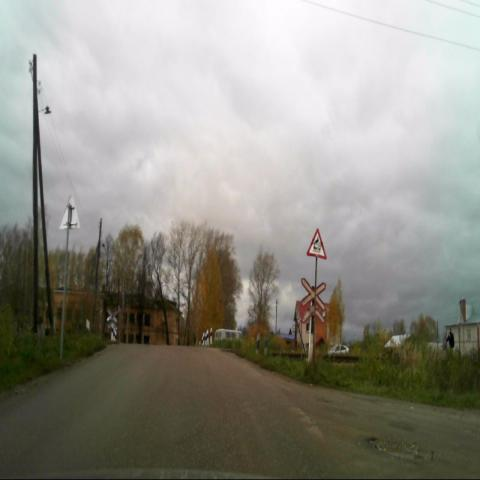1_2: (307, 227, 327, 260)
